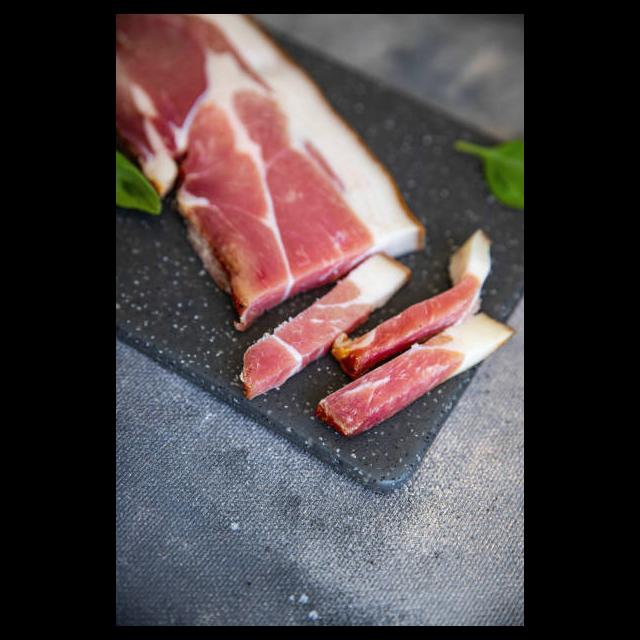pork: (174, 44, 427, 260), (323, 277, 512, 429), (236, 297, 325, 397)
